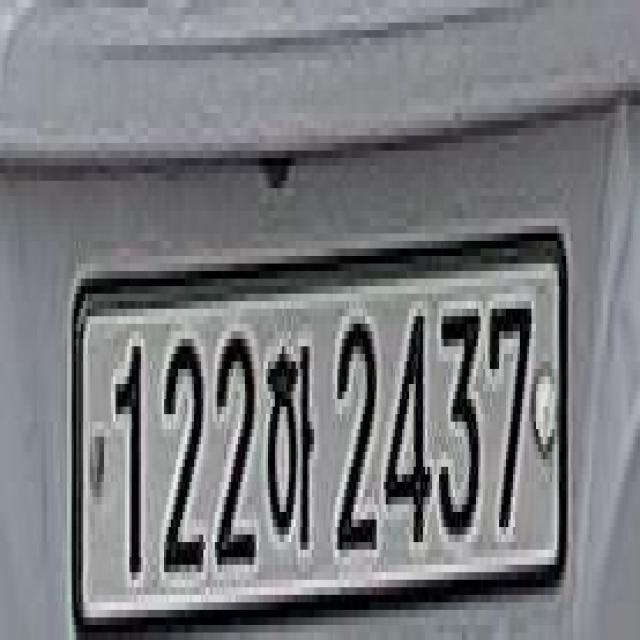illegal_plate: (68, 241, 568, 634)
